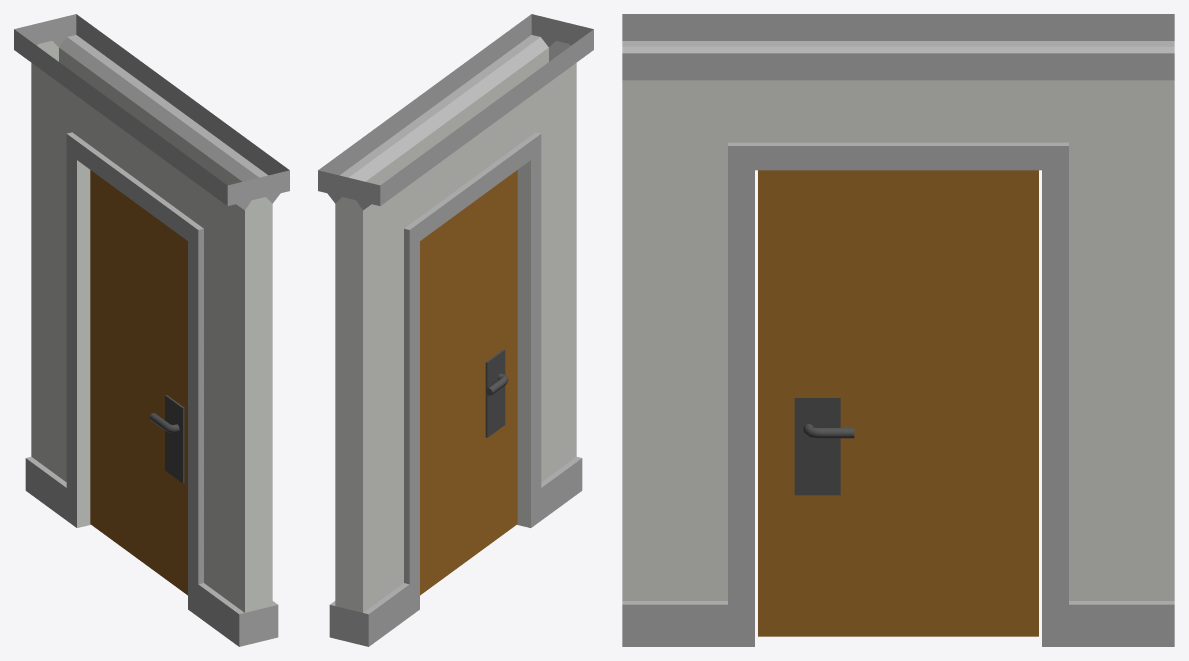
Rendered from OfficeDoorx1.fbx.
The picture shows the model from 3 angles, left to right: view 1: azimuth 30°, elevation 25°; view 2: azimuth 150°, elevation 25°; view 3: azimuth 270°, elevation 25°; orthographic projection. The views are drawn at different scales.
Visible parts, largest first — view 1: Handle2; view 2: Handle2; view 3: Handle2.
Part boxes in pixels (box(x1,y1,x2,y2)): Handle2: box(14, 14, 289, 646); Handle2: box(318, 14, 593, 646); Handle2: box(622, 14, 1174, 646).
Bounding box in the file's own units: 0.3367 × 2.4 × 2.
